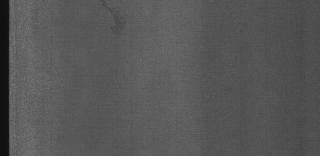water spot: (99, 1, 129, 43)
